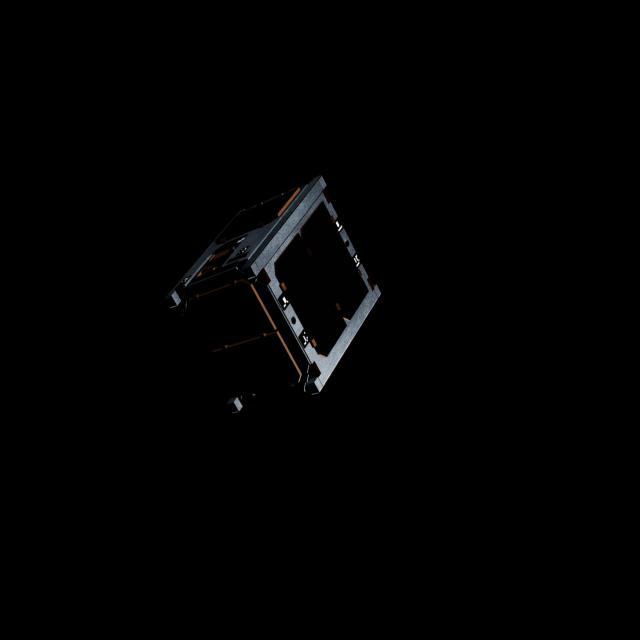medium_debris: (162, 173, 386, 434)
